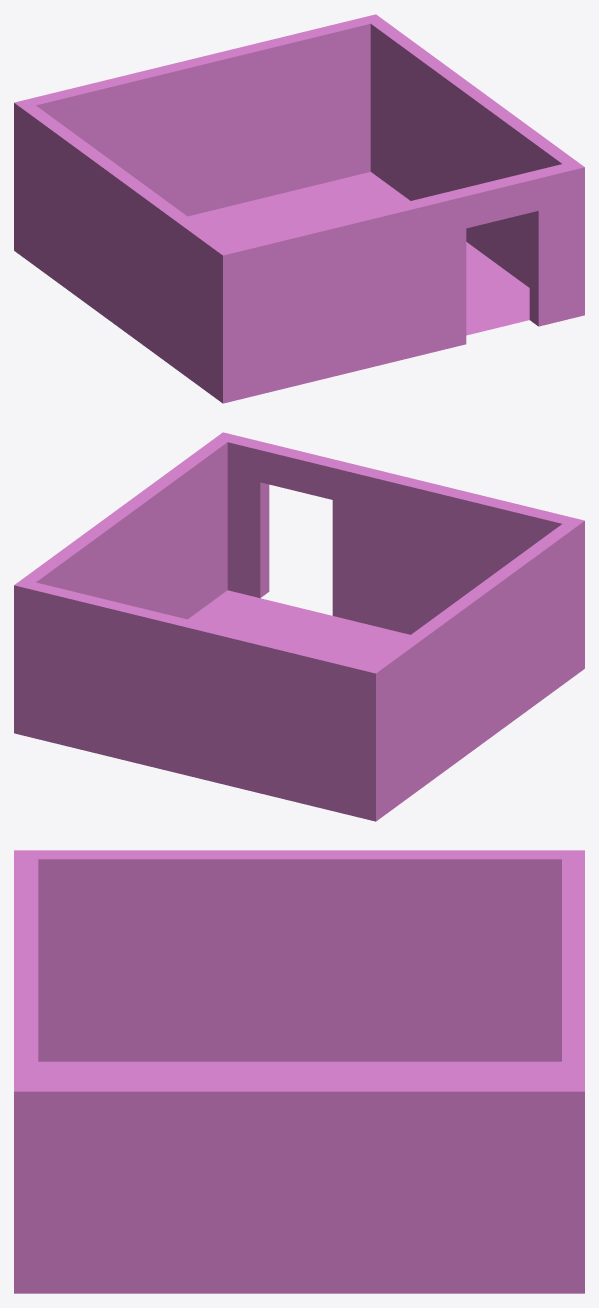
Rendered from room.glb.
3 renders of one model, top to bottom at view 1: azimuth 30°, elevation 25°; view 2: azimuth 150°, elevation 25°; view 3: azimuth 270°, elevation 25°, orthographic. The views are drawn at different scales.
Visible parts, largest first — view 1: Plane; view 2: Plane; view 3: Plane.
Part boxes in pixels (box(x1,y1,x2,y2)): Plane: box(14, 14, 584, 403); Plane: box(14, 432, 584, 821); Plane: box(14, 850, 584, 1293).
Size of the model in its own units: 142 by 55.41 by 142.
